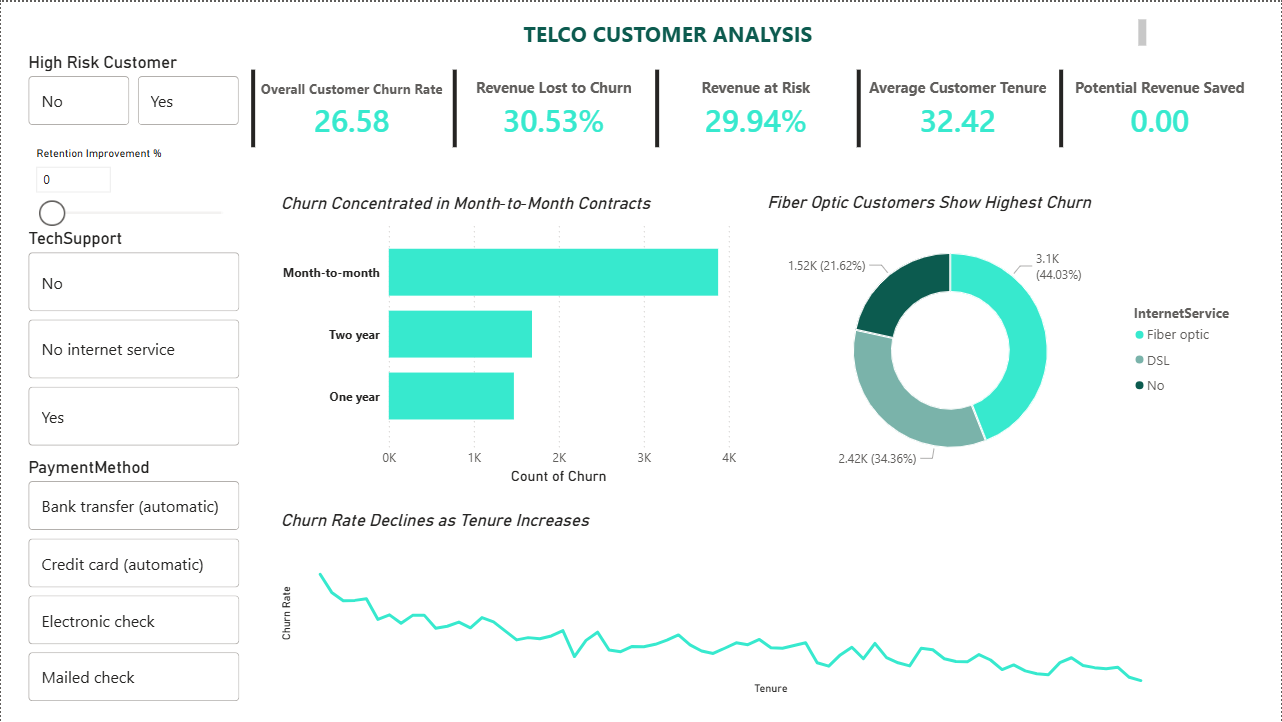

The dashboard page shown, as its layout file describes it:
{"tool":"powerbi","page":{"name":"Executive Churn Overview","canvas":[1280,720],"ordinal":0},"visuals":[{"type":"cardVisual","fields":{"Data":["Sheet1.Churn Rate","Sheet1.Revenue Lost %","Sheet1.At-Risk Revenue %","Sheet1.Average Tenure","Sheet1.Total Revenue Lost %"]},"box":[243.8,61.2,1023.8,90],"z":0},{"type":"clusteredBarChart","title":"Churn Concentrated in Month‑to‑Month Contracts","fields":{"Category":["Sheet1.Contract"],"Y":["CountNonNull(Sheet1.Churn)"]},"box":[274.9,190,464.9,297.8],"z":1000},{"type":"donutChart","title":"Fiber Optic Customers Show Highest Churn","fields":{"Y":["CountNonNull(Sheet1.Churn)"],"Category":["Sheet1.InternetService"]},"box":[761.4,190,486.5,297.8],"z":2000},{"type":"lineChart","title":"Churn Rate Declines as Tenure Increases","fields":{"Category":["Sheet1.tenure"],"Y":["Sheet1.Churn Rate"]},"box":[275,507.5,972.5,190],"z":3000},{"type":"advancedSlicerVisual","fields":{"Values":["Sheet1.PaymentMethod"]},"box":[22.9,455.5,221,252],"z":4000},{"type":"advancedSlicerVisual","fields":{"Values":["Sheet1.TechSupport"]},"box":[22.5,226.2,221.2,225],"z":5000},{"type":"advancedSlicerVisual","fields":{"Values":["Sheet1.High Risk Customer"]},"box":[22.5,50,221.2,78.8],"z":6000},{"type":"textbox","box":[152.5,12.5,997.5,37.5],"z":7000},{"type":"slicer","fields":{"Values":["Retention Improvement %.Retention Improvement %"]},"box":[22.5,140,221.2,86.2],"z":8000}]}

Visuals, with their boxes in screenshot pixels (x1, y1, x2, y2), scaled from the page's 1280x720 canvas onto the 1282x722 screenshot:
cardVisual - Sheet1.Churn Rate x Sheet1.Revenue Lost %: [left=244, top=61, right=1270, bottom=152]
"Churn Concentrated in Month‑to‑Month Contracts" clusteredBarChart: [left=275, top=191, right=741, bottom=489]
"Fiber Optic Customers Show Highest Churn" donutChart: [left=763, top=191, right=1250, bottom=489]
"Churn Rate Declines as Tenure Increases" lineChart: [left=275, top=509, right=1249, bottom=699]
advancedSlicerVisual - Sheet1.PaymentMethod: [left=23, top=457, right=244, bottom=709]
advancedSlicerVisual - Sheet1.TechSupport: [left=23, top=227, right=244, bottom=452]
advancedSlicerVisual - Sheet1.High Risk Customer: [left=23, top=50, right=244, bottom=129]
textbox: [left=153, top=13, right=1152, bottom=50]
slicer - Retention Improvement %.Retention Improvement %: [left=23, top=140, right=244, bottom=227]
